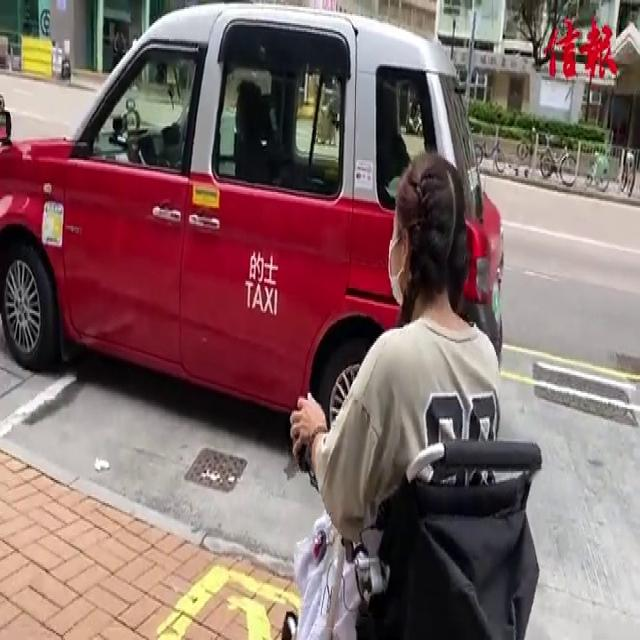wheelchairs: (277, 382, 554, 640)
